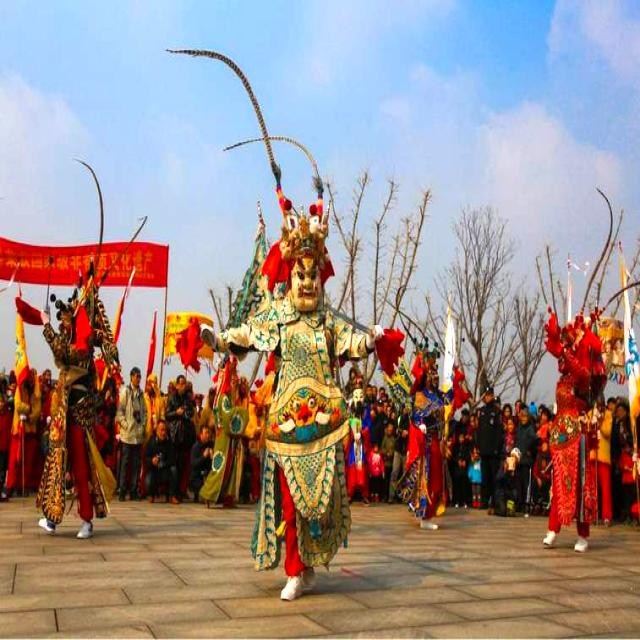Reeves-s Pheasant: (161, 44, 278, 166), (209, 129, 321, 172)
